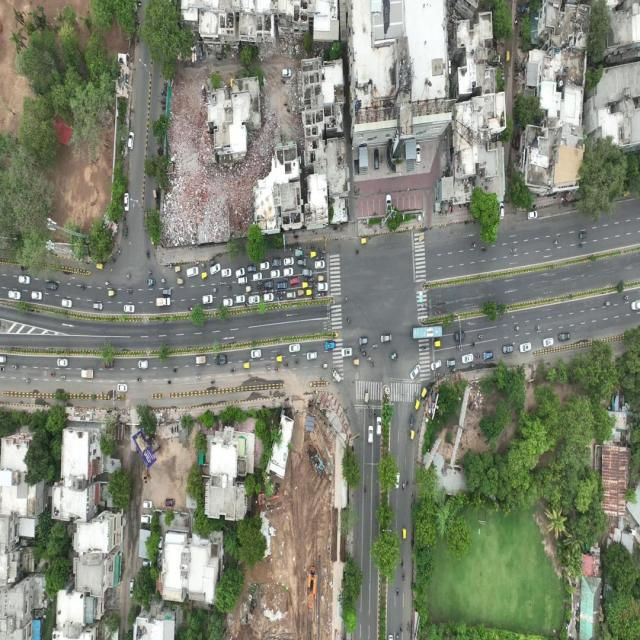3W: (390, 351, 399, 363), (146, 278, 156, 288), (106, 289, 117, 298), (122, 225, 129, 238), (432, 340, 442, 349), (245, 284, 254, 294), (176, 276, 185, 286), (401, 528, 407, 542), (152, 187, 158, 201), (200, 271, 209, 280), (95, 262, 104, 271), (421, 386, 427, 399), (414, 398, 420, 411), (363, 390, 369, 403), (409, 429, 415, 441), (409, 415, 415, 426), (360, 237, 367, 246), (353, 358, 360, 366), (580, 232, 587, 240), (418, 234, 425, 242), (317, 275, 325, 282), (243, 362, 251, 369), (175, 266, 182, 273), (301, 282, 308, 289), (297, 289, 304, 296), (311, 251, 318, 258), (276, 356, 283, 362), (210, 259, 216, 266), (306, 289, 312, 295)
Bus: (411, 325, 442, 340)
Cars: (411, 363, 421, 380), (7, 289, 21, 301), (518, 342, 533, 353), (341, 346, 354, 358), (186, 266, 199, 278), (127, 131, 135, 150), (325, 340, 337, 352), (57, 357, 69, 369), (557, 330, 570, 341), (461, 353, 474, 364), (19, 273, 32, 284), (379, 334, 393, 344), (543, 336, 554, 348), (430, 360, 441, 372), (368, 423, 374, 445), (123, 304, 135, 315), (288, 344, 301, 354), (250, 349, 263, 359), (357, 335, 368, 346), (117, 383, 128, 394), (210, 263, 221, 274), (454, 332, 466, 342), (527, 210, 539, 220), (137, 359, 149, 369), (124, 192, 130, 212), (60, 299, 73, 308), (201, 295, 214, 304), (248, 295, 261, 304), (483, 350, 494, 360), (221, 268, 232, 278), (283, 257, 294, 267), (317, 281, 327, 292), (502, 344, 514, 353), (215, 356, 227, 365), (313, 260, 325, 269), (276, 281, 288, 290), (499, 203, 505, 220), (47, 281, 57, 291), (445, 358, 456, 367), (306, 351, 317, 360), (31, 292, 42, 301), (237, 276, 248, 285), (271, 258, 282, 267), (270, 269, 281, 278), (302, 268, 313, 277), (295, 259, 307, 267), (263, 294, 275, 302), (376, 417, 381, 436), (93, 302, 103, 311), (223, 298, 233, 307), (236, 295, 246, 304), (236, 268, 245, 278), (252, 272, 262, 281), (247, 264, 256, 274), (283, 268, 293, 277), (290, 276, 300, 285), (286, 291, 296, 300), (264, 280, 273, 289), (162, 288, 172, 296)
LCV: (332, 366, 342, 385), (81, 369, 94, 379), (195, 354, 206, 365)
M2W: (509, 247, 517, 255), (320, 362, 328, 370), (420, 344, 427, 353), (604, 300, 611, 309), (395, 588, 400, 600), (363, 483, 367, 497), (514, 324, 520, 333), (405, 621, 410, 631), (400, 572, 405, 582), (534, 324, 541, 331), (80, 284, 87, 291), (274, 366, 281, 373), (292, 234, 299, 241), (406, 476, 410, 488), (369, 407, 373, 419), (366, 355, 372, 363), (553, 239, 559, 247), (400, 558, 404, 569), (456, 344, 463, 350), (474, 353, 481, 359), (468, 363, 475, 369), (451, 367, 458, 373), (59, 375, 66, 381), (127, 288, 133, 295), (187, 305, 193, 312), (218, 280, 224, 287), (294, 359, 300, 366), (275, 289, 281, 296), (259, 289, 265, 296), (399, 623, 403, 633), (623, 294, 628, 302), (0, 365, 5, 373), (123, 215, 127, 225), (358, 347, 364, 353), (361, 351, 367, 357), (481, 247, 487, 253), (395, 631, 399, 640), (51, 371, 57, 377), (126, 274, 132, 280), (118, 247, 122, 256), (146, 251, 150, 260), (230, 367, 236, 373), (212, 287, 218, 293), (201, 263, 207, 269), (283, 362, 289, 368), (319, 377, 325, 383), (296, 245, 302, 251), (289, 246, 295, 252), (315, 292, 321, 298), (257, 281, 263, 287), (476, 334, 483, 339), (469, 342, 476, 347), (472, 244, 477, 251), (578, 243, 583, 250), (13, 365, 20, 370), (173, 367, 178, 374), (304, 277, 311, 282), (402, 480, 405, 491), (373, 410, 376, 420), (373, 343, 378, 349), (370, 361, 375, 367), (105, 281, 111, 286), (25, 378, 31, 383), (147, 270, 153, 275), (196, 374, 201, 380), (243, 302, 249, 307), (193, 261, 199, 266), (310, 244, 315, 250), (310, 277, 315, 283), (111, 259, 116, 264), (281, 290, 286, 295), (270, 288, 275, 293), (137, 378, 143, 382), (161, 279, 167, 283), (210, 380, 216, 384), (226, 285, 232, 289), (266, 365, 270, 371), (354, 250, 359, 254), (167, 380, 171, 385), (305, 254, 310, 258), (278, 296, 283, 300), (257, 286, 262, 290), (265, 290, 269, 294)
